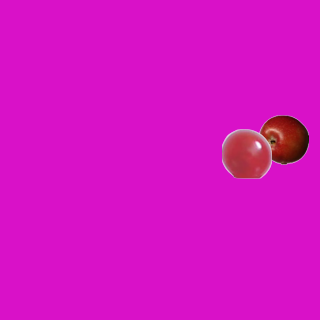Apple Braeburn: (258, 114, 308, 164)
Redcurrant: (221, 128, 271, 178)
